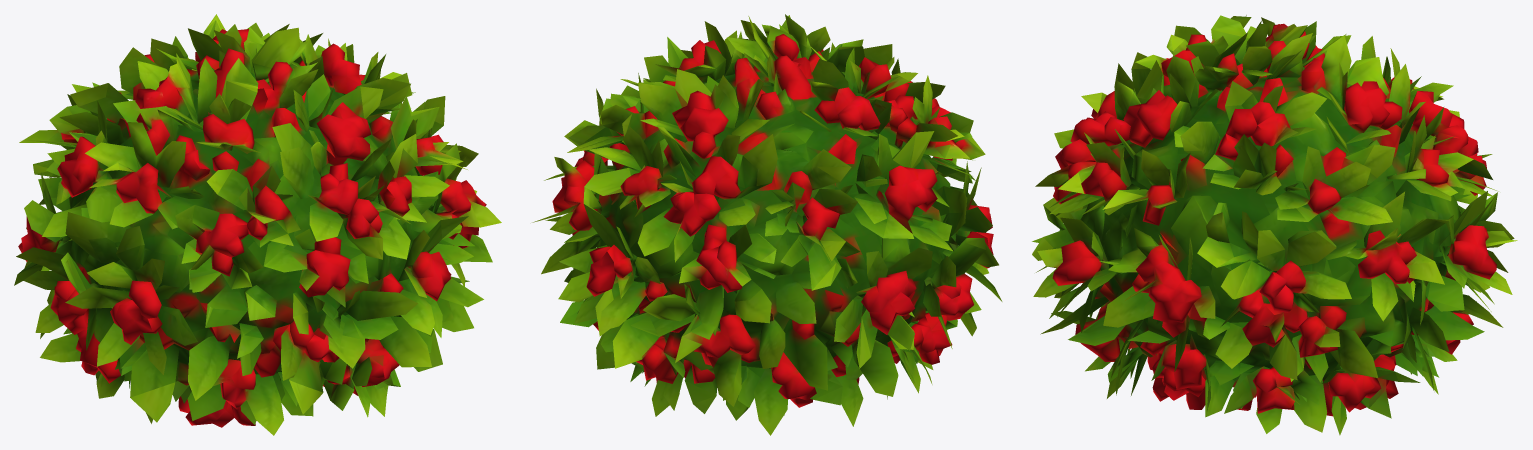
The model's file is bush_holly.glb.
3 renders of one model, left to right at view 1: azimuth 30°, elevation 25°; view 2: azimuth 150°, elevation 25°; view 3: azimuth 270°, elevation 25°, orthographic. The views are drawn at different scales.
Visible parts, largest first — view 1: tripo_node_b5307874-c6f6-4a91-8210-03721b882229; view 2: tripo_node_b5307874-c6f6-4a91-8210-03721b882229; view 3: tripo_node_b5307874-c6f6-4a91-8210-03721b882229.
Part boxes in pixels (bbox=[...]): tripo_node_b5307874-c6f6-4a91-8210-03721b882229: bbox=[14, 14, 501, 435]; tripo_node_b5307874-c6f6-4a91-8210-03721b882229: bbox=[532, 14, 1002, 435]; tripo_node_b5307874-c6f6-4a91-8210-03721b882229: bbox=[1032, 15, 1517, 435].
Bounding box in the file's own units: 1.01 × 0.8019 × 0.9983.
Materials: 1 (1 with a texture image).
